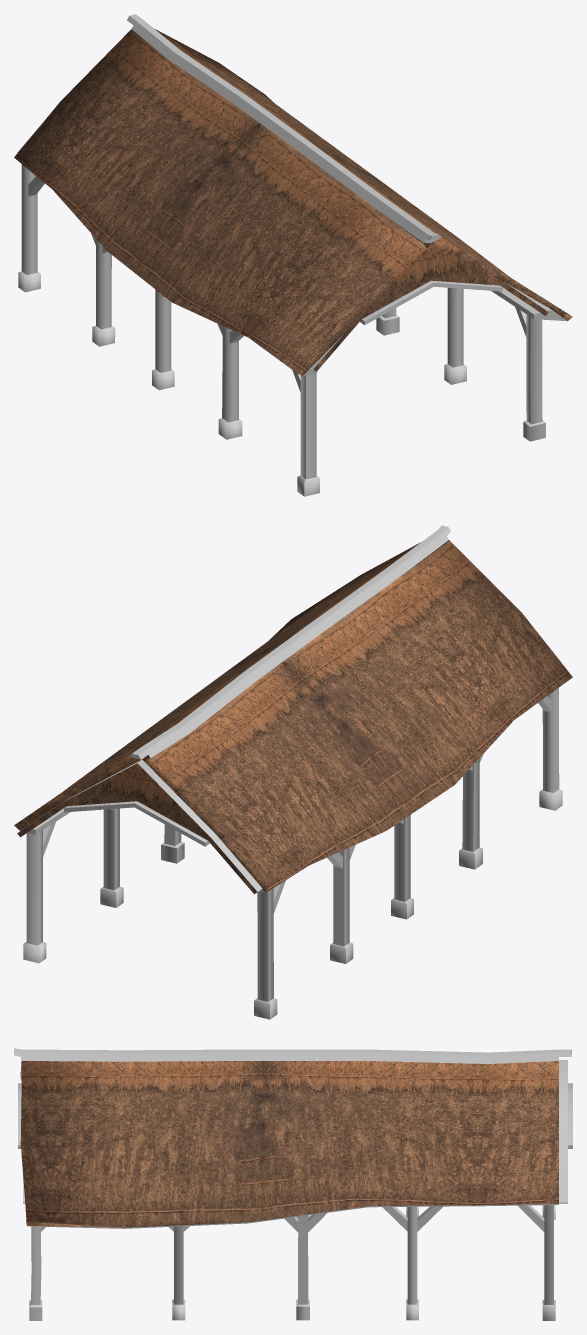
The model's file is KeepBuildingB.fbx.
3 views of the same model, one above another, from view 1: azimuth 30°, elevation 25°; view 2: azimuth 150°, elevation 25°; view 3: azimuth 270°, elevation 25° (orthographic). The views are drawn at different scales.
Parts seen in each view (by area): view 1: U3DMesh; view 2: U3DMesh; view 3: U3DMesh.
Part boxes in pixels (<box>): U3DMesh: <box>14,14,572,496</box>; U3DMesh: <box>14,525,572,1019</box>; U3DMesh: <box>14,1048,572,1320</box>.
Bounding box in the file's own units: 258 × 209 × 484.
